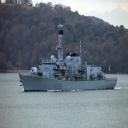Fragata: (20, 24, 119, 94)
